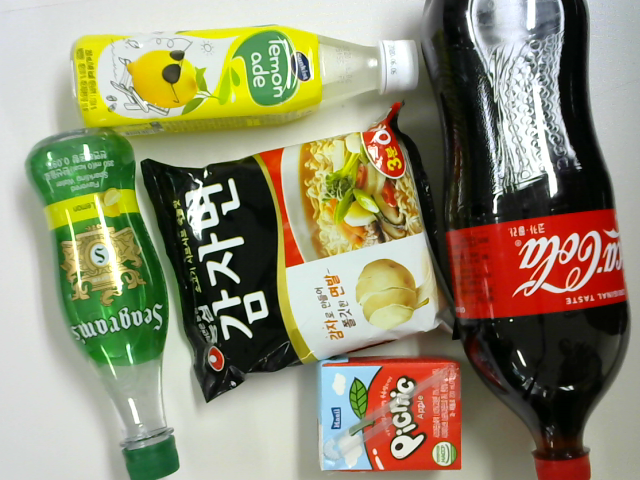Coca_Cola_1.5L: (421, 4, 625, 480)
Picnic_Apple: (317, 368, 463, 472)
Potato: (145, 106, 455, 402)
Seagram_Lemon_Carbonated_Water: (27, 124, 185, 480)
Sunkist_Lemonaid_Pet: (65, 28, 411, 134)
